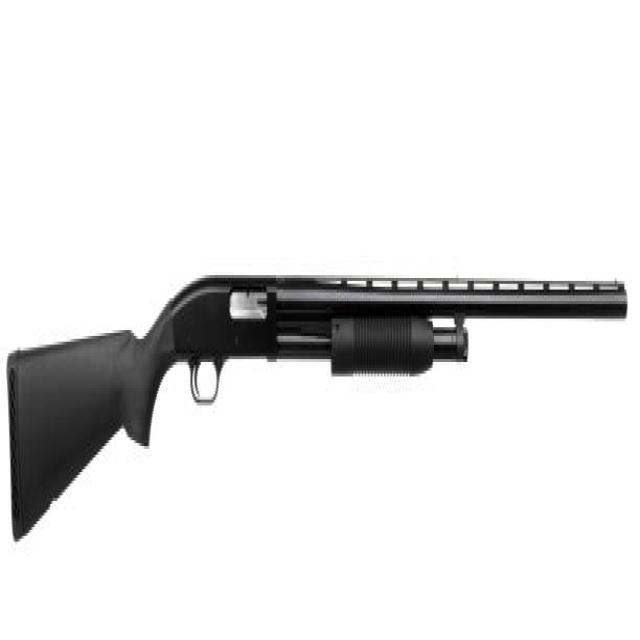rifle: (4, 265, 632, 557)
